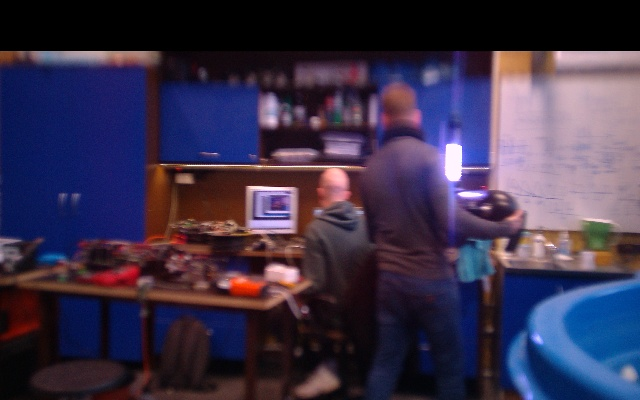white: (444, 142, 462, 183)
